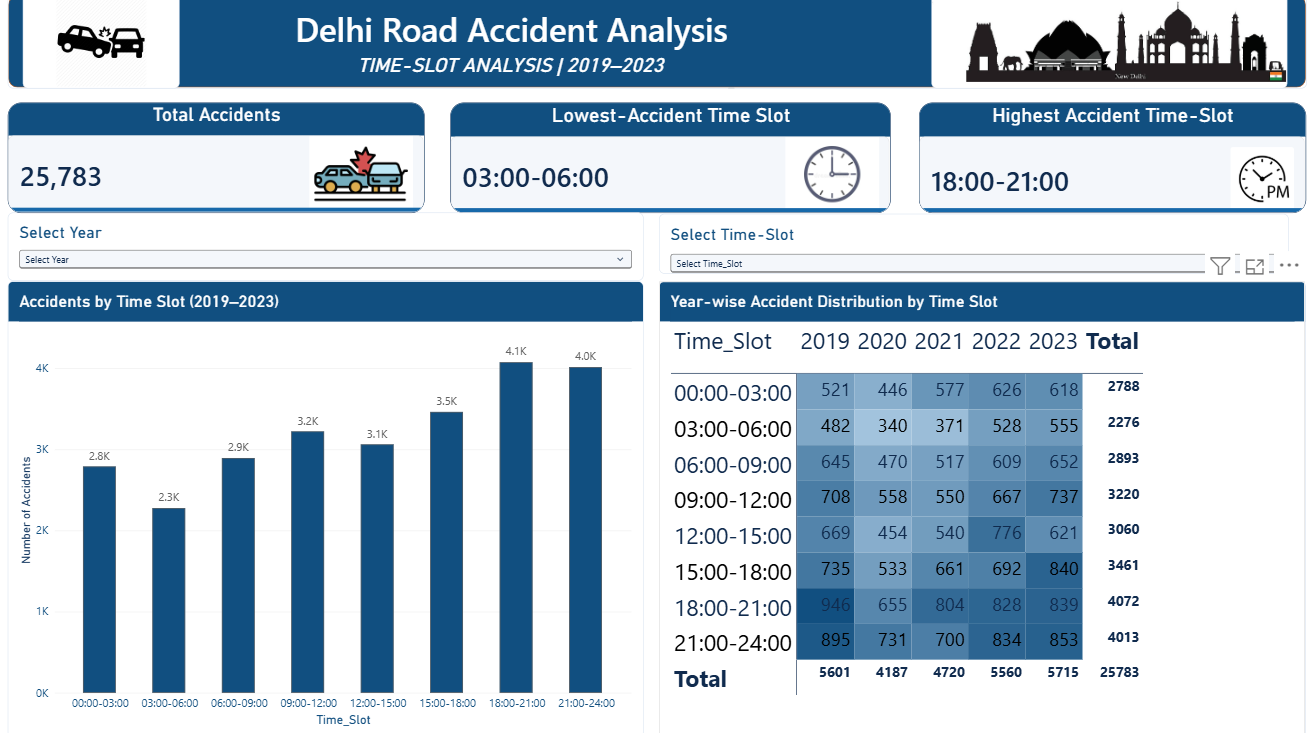

What the dashboard file says about the page in this screenshot:
{"tool":"powerbi","page":{"name":"Time-Slot Analysis","canvas":[1920,1080],"ordinal":1},"visuals":[{"type":"cardVisual","title":"Highest Accident Time-Slot","fields":{"Data":["DimYear.Highest Accident Time Slot"]},"box":[1337.3,155.6,562.8,161.1],"z":1000},{"type":"cardVisual","title":"Lowest-Accident Time Slot","fields":{"Data":["DimYear.Lowest Accident Time Slot"]},"box":[656.9,155.6,640.6,161.1],"z":2000},{"type":"clusteredColumnChart","title":"Accidents by Time Slot (2019–2023)","fields":{"Category":["TimeSlot_Accidents.Time_Slot"],"Y":["DimYear.Total Time-Slot Accidents"]},"box":[12.7,416.2,924.7,664.1],"z":4000},{"type":"listSlicer","title":"Select  Year","fields":{"Values":["DimYear.Year"]},"box":[12.7,316.7,924.7,99.5],"z":5000},{"type":"listSlicer","title":"Select Time-Slot","fields":{"Values":["TimeSlot_Accidents.Time_Slot"]},"box":[960,318.2,915.7,86.9],"z":6000},{"type":"shape","box":[12.7,0,1889.3,135.7],"z":7000},{"type":"textbox","box":[376.4,16.3,738.3,68.8],"z":8000},{"type":"textbox","title":"TIME-SLOT ANALYSIS | 2019–2023","box":[418,85.1,651.5,50.7],"z":9000},{"type":"image","box":[34.4,0,228,135.7],"z":10000},{"type":"image","box":[1357.2,0,517.6,135.7],"z":11000},{"type":"cardVisual","title":"Total Accidents","fields":{"Data":["DimYear.Total Accidents Display"]},"box":[12.7,155.6,606.2,161.1],"z":12000},{"type":"pivotTable","title":"Year-wise Accident Distribution by Time Slot","fields":{"Columns":["DimYear.Year"],"Rows":["TimeSlot_Accidents.Time_Slot"],"Values":["DimYear.Total Time-Slot Accidents"]},"box":[959.1,416.2,941,664.1],"z":12001}]}

Visuals, with their boxes in screenshot pixels (x1, y1, x2, y2), scaled from the page's 1920x1080 canvas onto the 1312x733 screenshot:
"Highest Accident Time-Slot" cardVisual: (914, 106, 1298, 215)
"Lowest-Accident Time Slot" cardVisual: (449, 106, 887, 215)
"Accidents by Time Slot (2019–2023)" clusteredColumnChart: (9, 282, 641, 732)
"Select  Year" listSlicer: (9, 215, 641, 282)
"Select Time-Slot" listSlicer: (656, 216, 1282, 275)
shape: (9, 0, 1300, 92)
textbox: (257, 11, 762, 58)
"TIME-SLOT ANALYSIS | 2019–2023" textbox: (286, 58, 731, 92)
image: (24, 0, 179, 92)
image: (927, 0, 1281, 92)
"Total Accidents" cardVisual: (9, 106, 423, 215)
"Year-wise Accident Distribution by Time Slot" pivotTable: (655, 282, 1298, 732)
